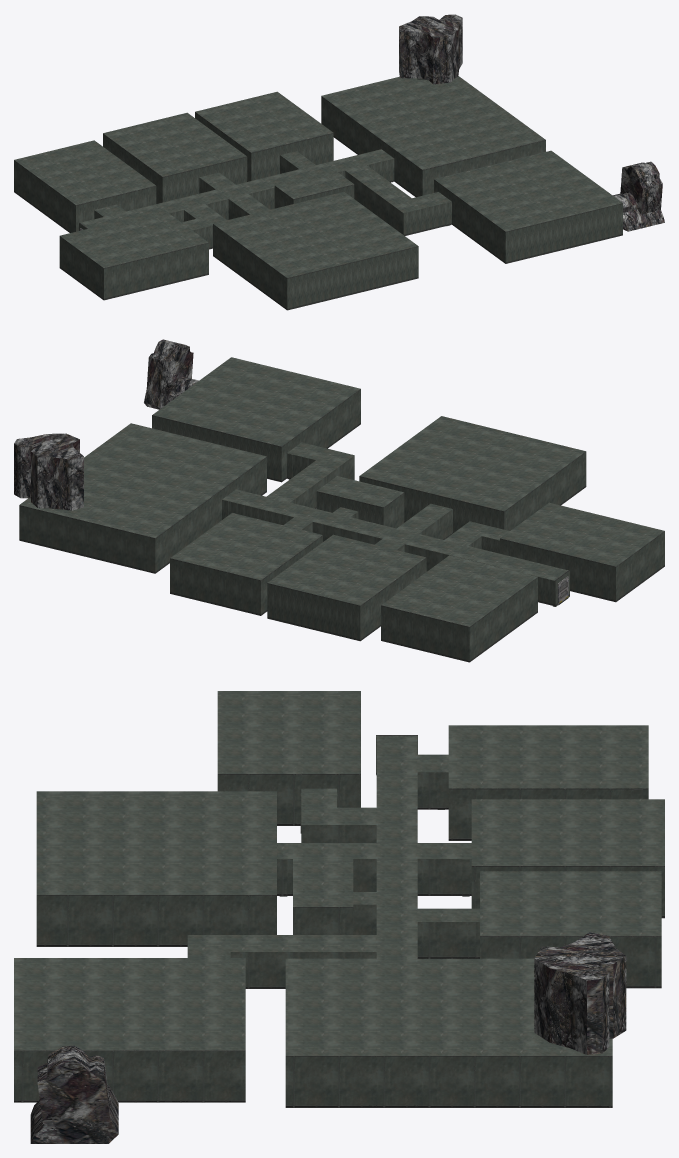
3 renders of one model, top to bottom at view 1: azimuth 30°, elevation 25°; view 2: azimuth 150°, elevation 25°; view 3: azimuth 270°, elevation 25°, orthographic. The views are drawn at different scales.
Parts seen in each view (by area): view 1: wall.001; view 2: wall.001; view 3: wall.001.
Boxes of the visible parts, x1,y1,x2,y2 form: wall.001: (14, 14, 664, 310); wall.001: (14, 339, 664, 662); wall.001: (14, 691, 664, 1143).
Size of the model in its own units: 6630 by 1088 by 4602.
6 materials, 6 textured.
